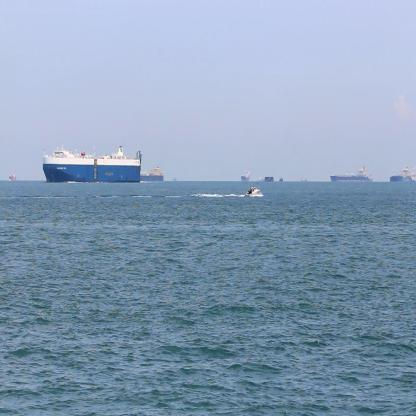Container Ship: (41, 143, 143, 186), (328, 162, 376, 184), (385, 165, 415, 185), (140, 169, 166, 183), (239, 168, 252, 184), (6, 168, 18, 185)
